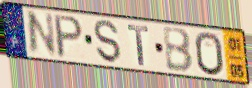B: (161, 27, 195, 75)
N: (26, 10, 58, 57)
O: (193, 31, 226, 78)
P: (53, 13, 85, 60)
S: (92, 18, 123, 65)
T: (126, 24, 150, 68)
